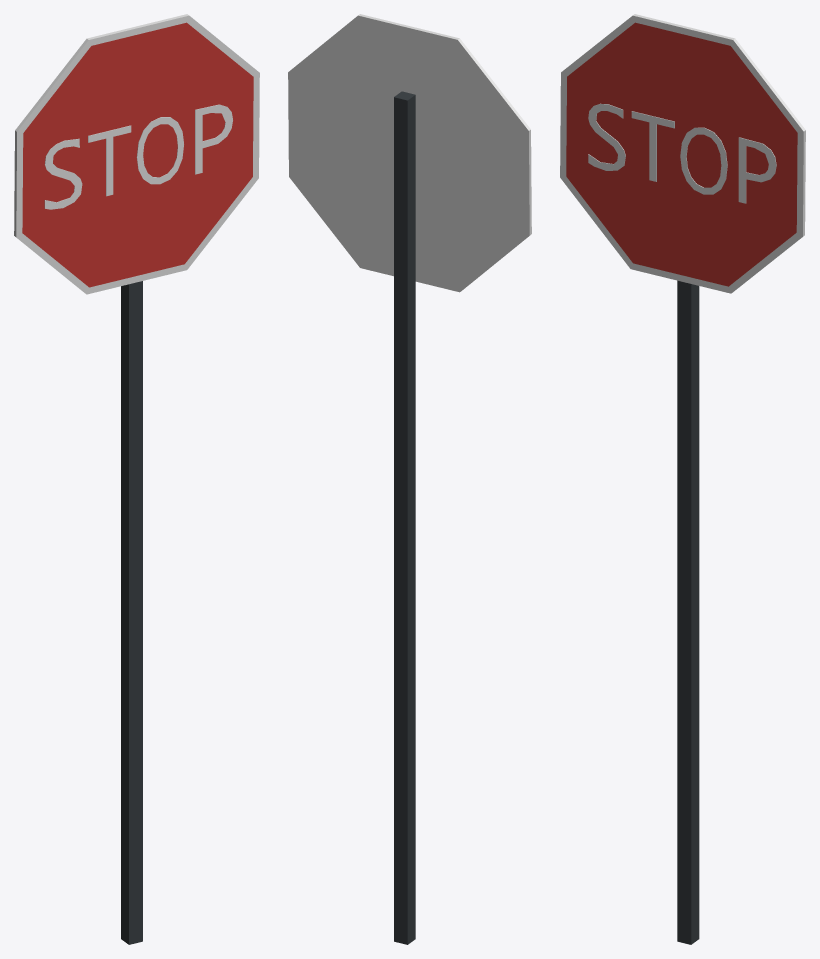
The model's file is SM_FloorProps_RoadSign_07.fbx.
The picture shows the model from 3 angles, left to right: view 1: azimuth 30°, elevation 25°; view 2: azimuth 150°, elevation 25°; view 3: azimuth 330°, elevation 25°; orthographic projection.
Visible parts, largest first — view 1: SM_FloorProps_RoadSign_07; view 2: SM_FloorProps_RoadSign_07; view 3: SM_FloorProps_RoadSign_07.
Part boxes in pixels (bbox=[...]): SM_FloorProps_RoadSign_07: bbox=[14, 14, 259, 944]; SM_FloorProps_RoadSign_07: bbox=[288, 14, 531, 944]; SM_FloorProps_RoadSign_07: bbox=[560, 14, 805, 944].
Size of the model in its own units: 0.7484 by 2.69 by 0.056.
